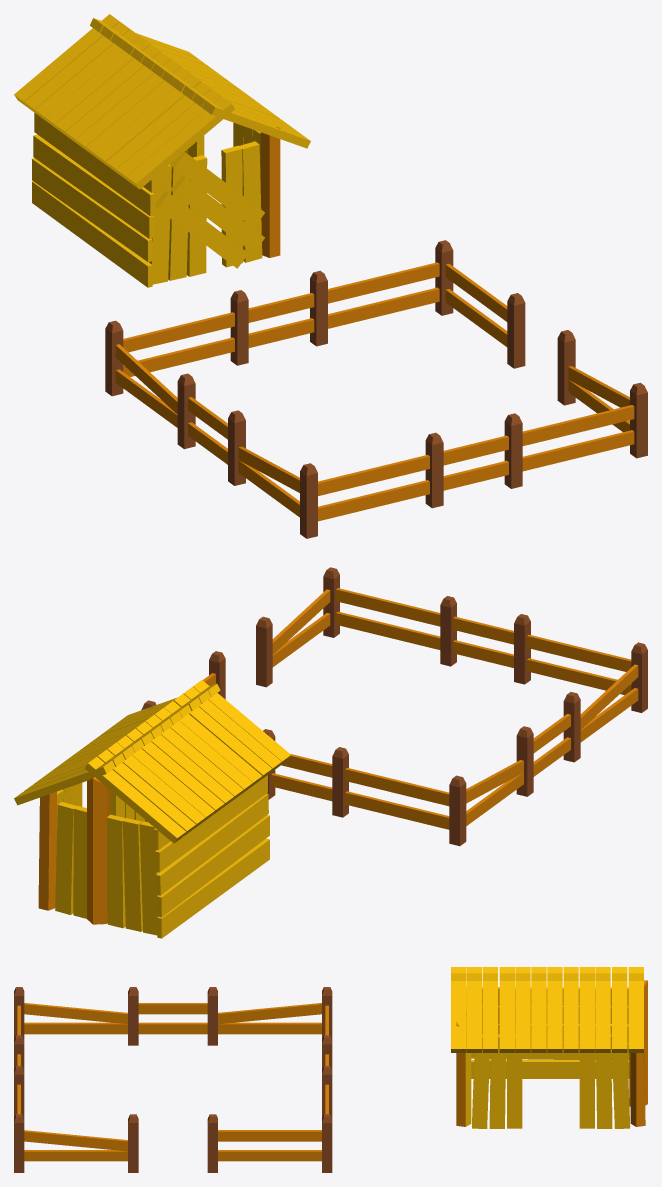
Rendered from Farm_first_level.fbx.
3 views of the same model, one above another, from view 1: azimuth 30°, elevation 25°; view 2: azimuth 150°, elevation 25°; view 3: azimuth 270°, elevation 25° (orthographic). The views are drawn at different scales.
Visible parts, largest first — view 1: Cube.001, Cube; view 2: Cube.001, Cube; view 3: Cube.001, Cube.
Part boxes in pixels (x1,y1,x2,y2): Cube.001: (14,14,310,287); Cube: (105,240,647,538); Cube.001: (14,680,290,938); Cube: (141,567,647,846); Cube.001: (451,967,647,1128); Cube: (14,987,332,1172).
Size of the model in its own units: 2037 by 1050 by 4146.
